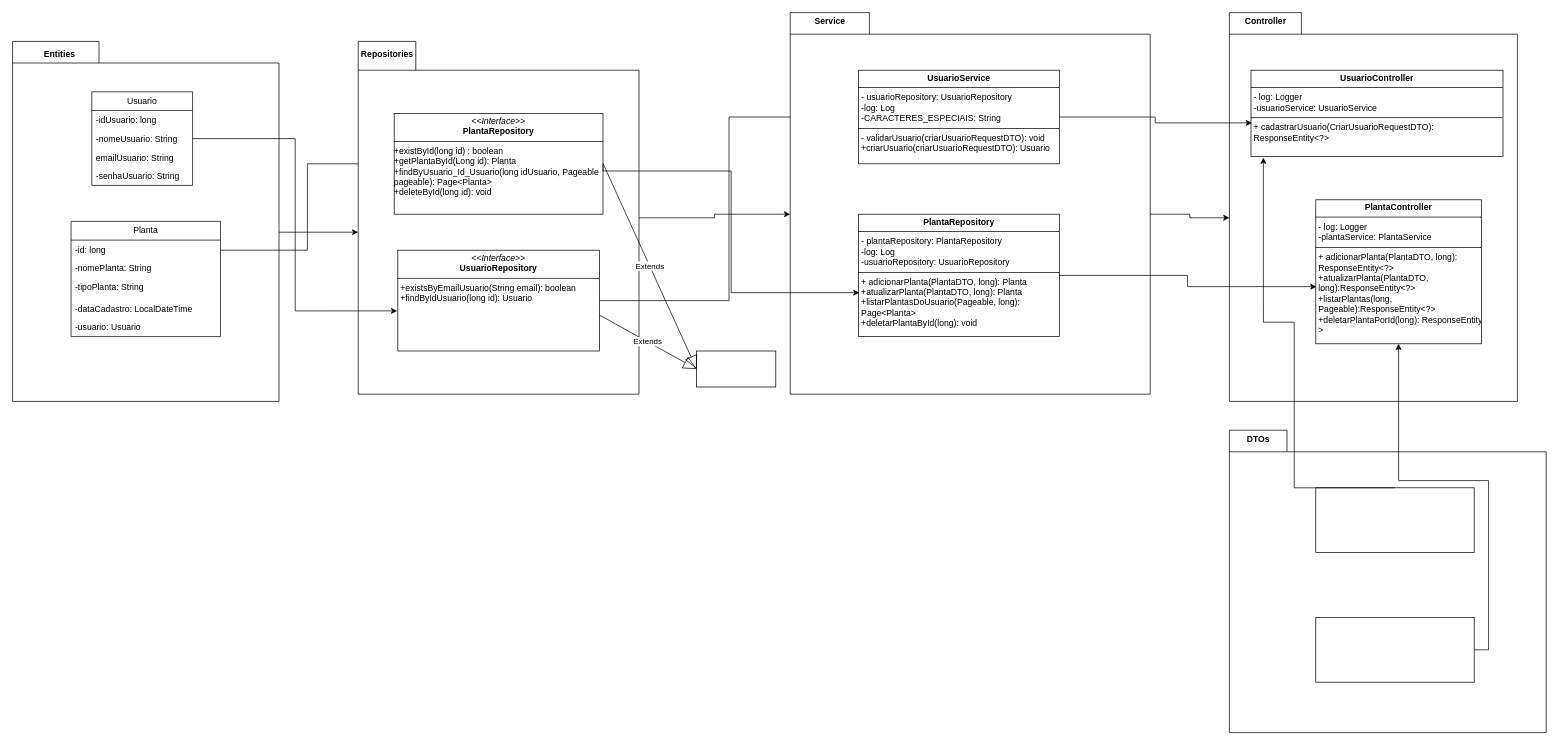
This 1559x745 diagram has some shape labels left out. The box of each missing label's shape, as (x1, y1, x2, y2) in pixels:
CriarUsuarioRequest:record nome: String email: String senha: String: (1315, 487, 1474, 553)
PlantaDTO:record nomePlanta:String tipoPlanta: String: (1315, 617, 1474, 682)
«interface» JpaRepository: (696, 350, 776, 387)
